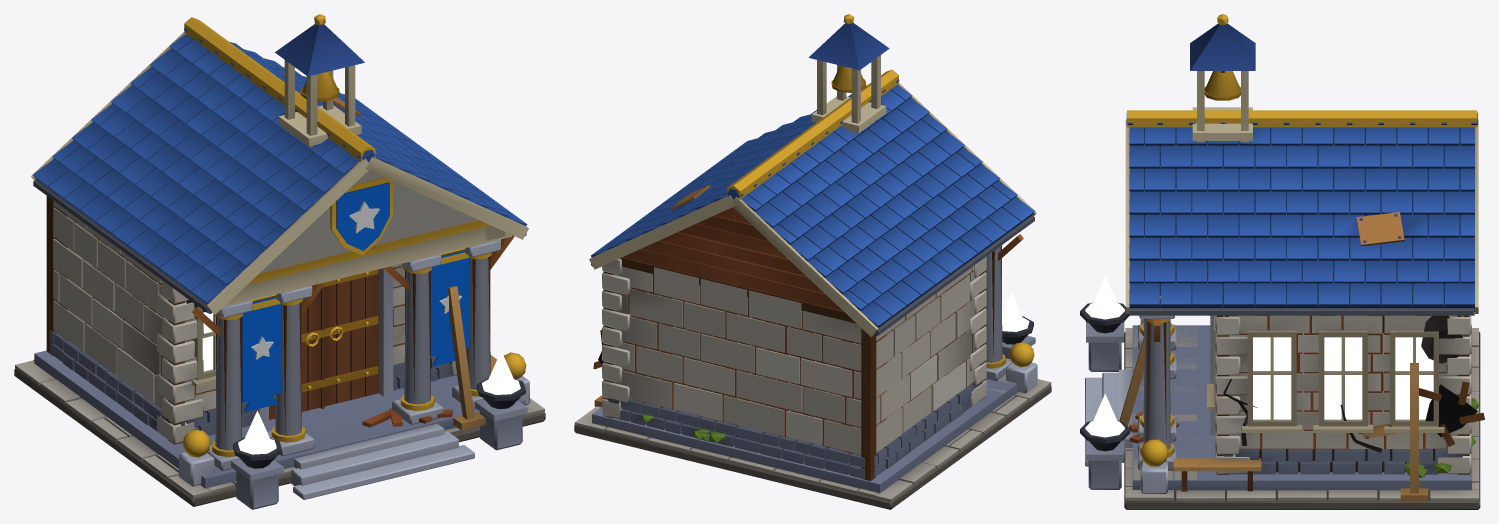
Rendered from b_clanhalle.glb.
3 views of the same model, side by side, from view 1: azimuth 30°, elevation 25°; view 2: azimuth 150°, elevation 25°; view 3: azimuth 270°, elevation 25° (orthographic). The views are drawn at different scales.
Parts seen in each view (by area): view 1: body, lv4_halle, lv4_gold, lvmax3_halle, sway_banner_l, sway_banner_r, dmg2_bruch, pulse_feuer2_glow, pulse_feuer_glow, sway_glocke; view 2: body, lv4_halle, lvmax3_halle, lv4_gold, pulse_feuer_glow; view 3: body, lv4_halle, win_glow, lv4_gold, dmg2_bruch, lvmax3_halle, dmg1_spuren, sway_glocke, pulse_feuer2_glow, pulse_feuer_glow.
Part boxes in pixels (x1=…): body: x1=14, y1=14, x2=545, y2=509; lv4_halle: x1=53, y1=170, x2=500, y2=470; lv4_gold: x1=179, y1=17, x2=529, y2=486; lvmax3_halle: x1=46, y1=196, x2=514, y2=446; sway_banner_l: x1=241, y1=294, x2=280, y2=411; sway_banner_r: x1=430, y1=248, x2=469, y2=365; dmg2_bruch: x1=362, y1=286, x2=485, y2=430; pulse_feuer2_glow: x1=482, y1=351, x2=520, y2=394; pulse_feuer_glow: x1=238, y1=410, x2=276, y2=454; sway_glocke: x1=300, y1=71, x2=339, y2=101; body: x1=574, y1=14, x2=1051, y2=509; lv4_halle: x1=602, y1=246, x2=1012, y2=454; lvmax3_halle: x1=603, y1=234, x2=1023, y2=481; lv4_gold: x1=727, y1=69, x2=1037, y2=393; pulse_feuer_glow: x1=1002, y1=292, x2=1029, y2=331; body: x1=1080, y1=14, x2=1480, y2=509; lv4_halle: x1=1138, y1=315, x2=1471, y2=474; win_glow: x1=1253, y1=337, x2=1433, y2=419; lv4_gold: x1=1127, y1=110, x2=1477, y2=493; dmg2_bruch: x1=1119, y1=334, x2=1484, y2=501; lvmax3_halle: x1=1148, y1=296, x2=1469, y2=474; dmg1_spuren: x1=1223, y1=315, x2=1462, y2=452; sway_glocke: x1=1204, y1=71, x2=1240, y2=100; pulse_feuer2_glow: x1=1085, y1=393, x2=1124, y2=437; pulse_feuer_glow: x1=1085, y1=275, x2=1124, y2=319.
Bounding box in the file's own units: 7.45 × 8.29 × 7.4.
